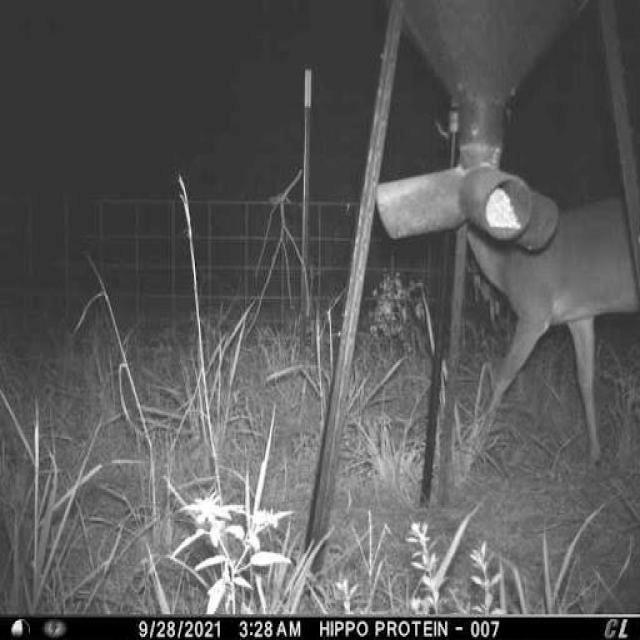Deer: (436, 171, 636, 491)
